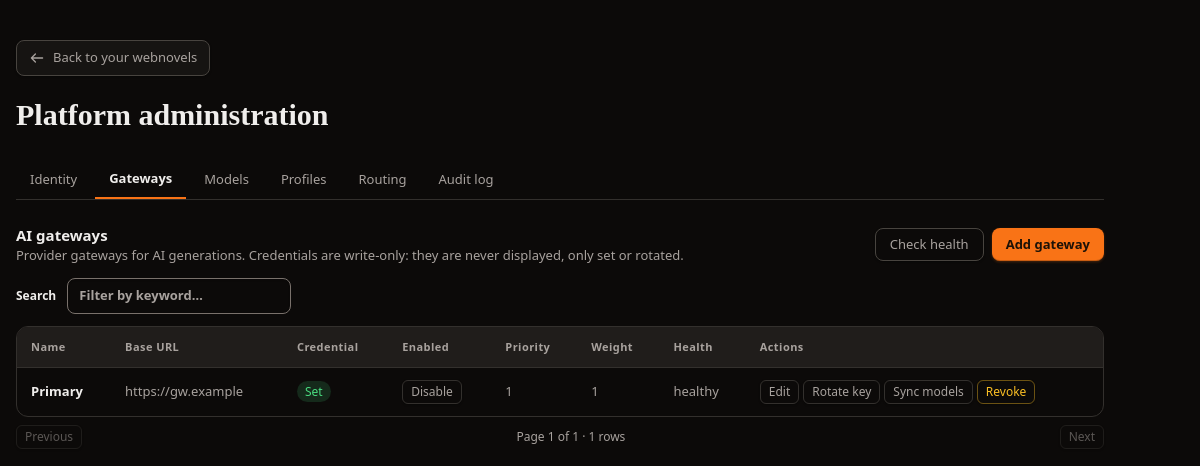
admin gateway action toasts › health check shows a green toast per healthy gateway
Click the button "Check health": x=929, y=245 x1=875 y1=228 x2=984 y2=261
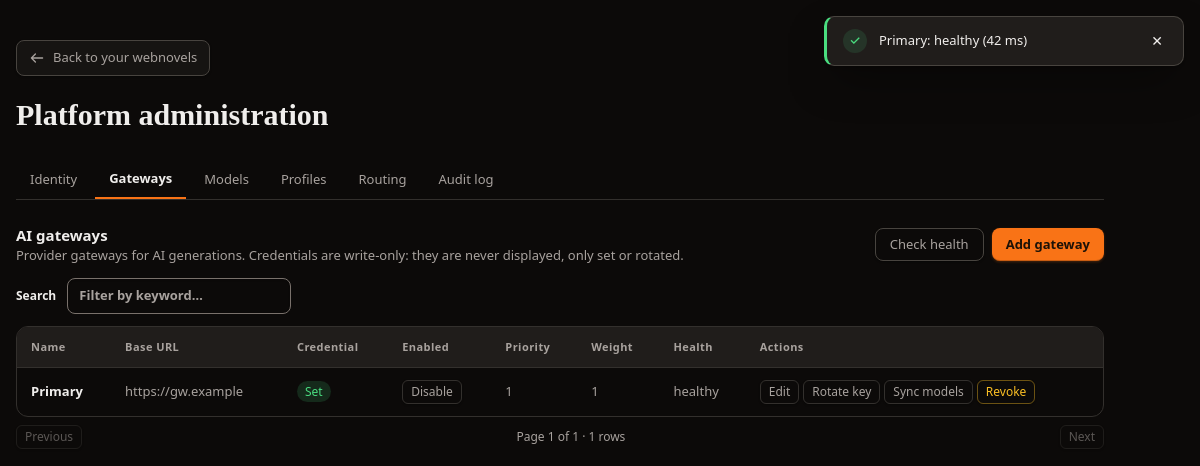
Check: the message "✓ Primary: healthy (42 ms) ✕" is shown, box x1=824 y1=16 x2=1184 y2=66
Check: the message with test id "toast-success" shows "Primary: healthy (42 ms)", box x1=879 y1=31 x2=1027 y2=49
